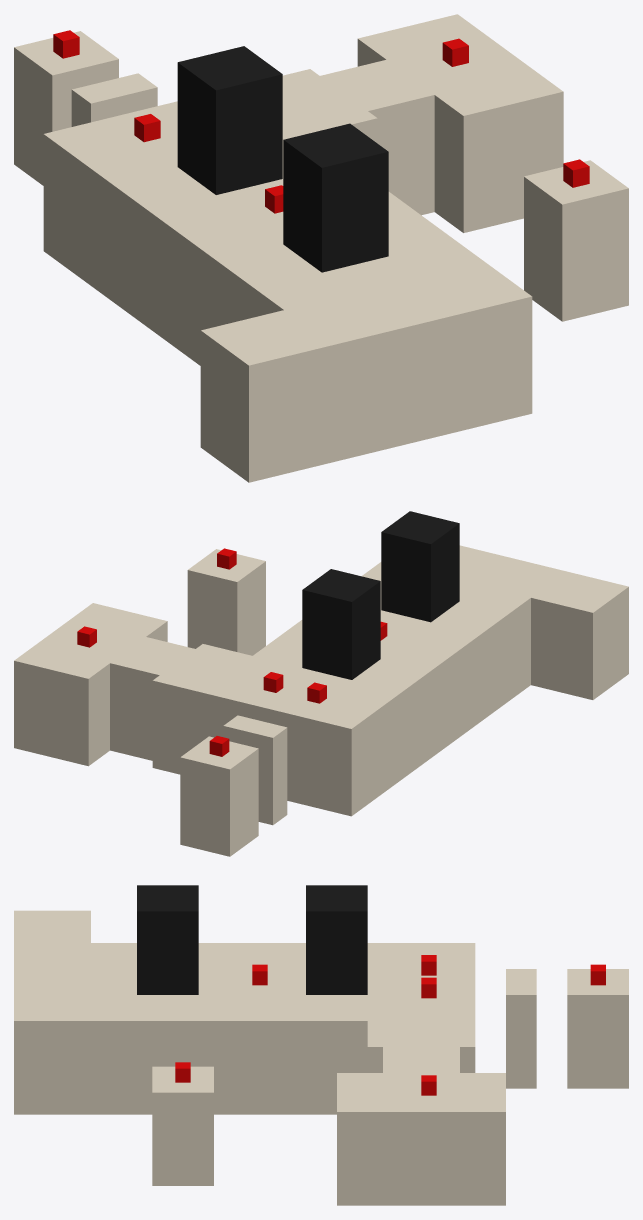
File: Room8.fbx
3 views of the same model, one above another, from view 1: azimuth 30°, elevation 25°; view 2: azimuth 150°, elevation 25°; view 3: azimuth 270°, elevation 25° (orthographic). The views are drawn at different scales.
Parts seen in each view (by area): view 1: Box001, Box002, Box005, Box006, Obstacle1, Obstacle2, Box004, Box008, Box003, Box007, Enemy4, Enemy3 (+2 smaller); view 2: Box002, Box005, Box001, Box008, Obstacle1, Obstacle2, Box006, Box003, Box004, Box007; view 3: Box002, Box005, Box001, Box006, Box008, Obstacle1, Obstacle2, Box007, Box003, Box004.
Boxes of the visible parts, left/top/right/bottom form: Box001: left=200, top=261, right=532, bottom=482; Box002: left=43, top=101, right=483, bottom=365; Box005: left=357, top=14, right=563, bottom=232; Box006: left=524, top=160, right=628, bottom=321; Obstacle1: left=283, top=123, right=388, bottom=272; Obstacle2: left=177, top=46, right=282, bottom=194; Box004: left=320, top=59, right=434, bottom=215; Box008: left=14, top=31, right=118, bottom=185; Box003: left=282, top=69, right=377, bottom=143; Box007: left=71, top=73, right=157, bottom=126; Enemy4: left=53, top=30, right=79, bottom=58; Enemy3: left=134, top=114, right=160, bottom=142; Box002: left=202, top=562, right=530, bottom=816; Box005: left=14, top=603, right=167, bottom=766; Box001: left=459, top=545, right=628, bottom=699; Box008: left=180, top=736, right=258, bottom=856; Obstacle1: left=381, top=511, right=459, bottom=622; Obstacle2: left=302, top=569, right=380, bottom=679; Box006: left=187, top=549, right=265, bottom=655; Box003: left=152, top=644, right=251, bottom=774; Box004: left=110, top=637, right=195, bottom=760; Box007: left=223, top=715, right=287, bottom=825; Box002: left=91, top=943, right=475, bottom=1114; Box005: left=337, top=1073, right=505, bottom=1205; Box001: left=14, top=910, right=90, bottom=1114; Box006: left=152, top=1066, right=213, bottom=1185; Box008: left=567, top=969, right=628, bottom=1088; Obstacle1: left=137, top=885, right=198, bottom=994; Obstacle2: left=306, top=885, right=367, bottom=994; Box007: left=506, top=969, right=536, bottom=1088; Box003: left=367, top=1021, right=475, bottom=1072; Box004: left=383, top=1047, right=459, bottom=1072.
Bounding box in the file's own units: 6.2 × 2.54 × 8.
